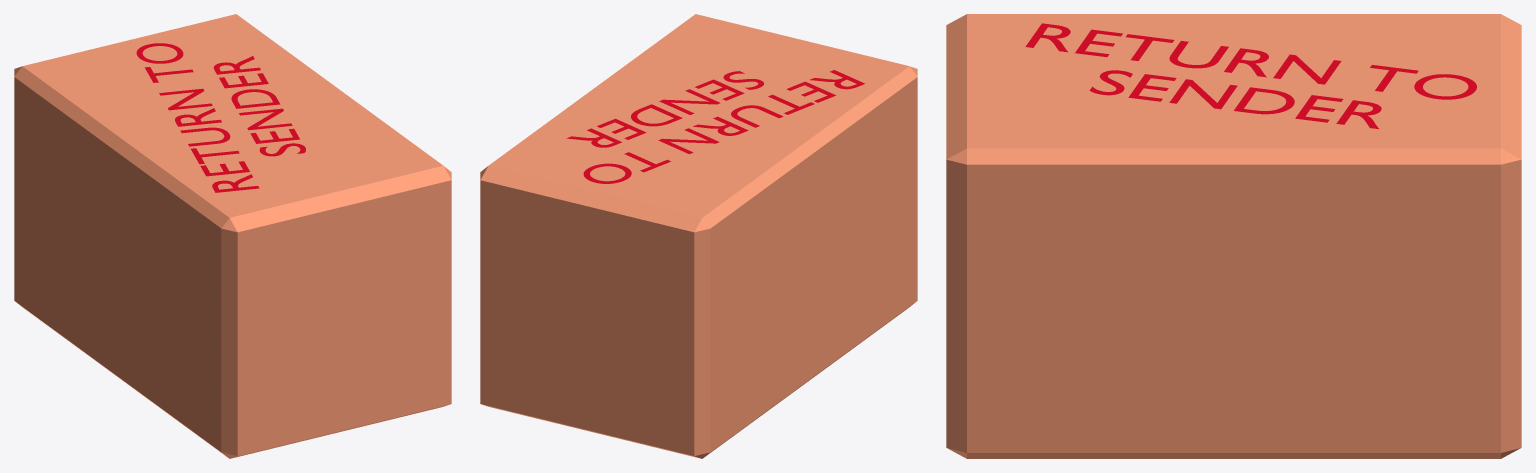
3 renders of one model, left to right at view 1: azimuth 30°, elevation 25°; view 2: azimuth 150°, elevation 25°; view 3: azimuth 270°, elevation 25°, orthographic. The views are drawn at different scales.
Visible parts, largest first — view 1: Cube, Text; view 2: Cube, Text; view 3: Cube, Text.
Boxes of the visible parts, x1,y1,x2,y2 form: Cube: [14, 14, 451, 458]; Text: [136, 43, 305, 192]; Cube: [480, 14, 917, 458]; Text: [566, 70, 864, 183]; Cube: [946, 14, 1521, 458]; Text: [1025, 23, 1476, 128].
Bounding box in the file's own units: 2 × 2 × 3.36.
